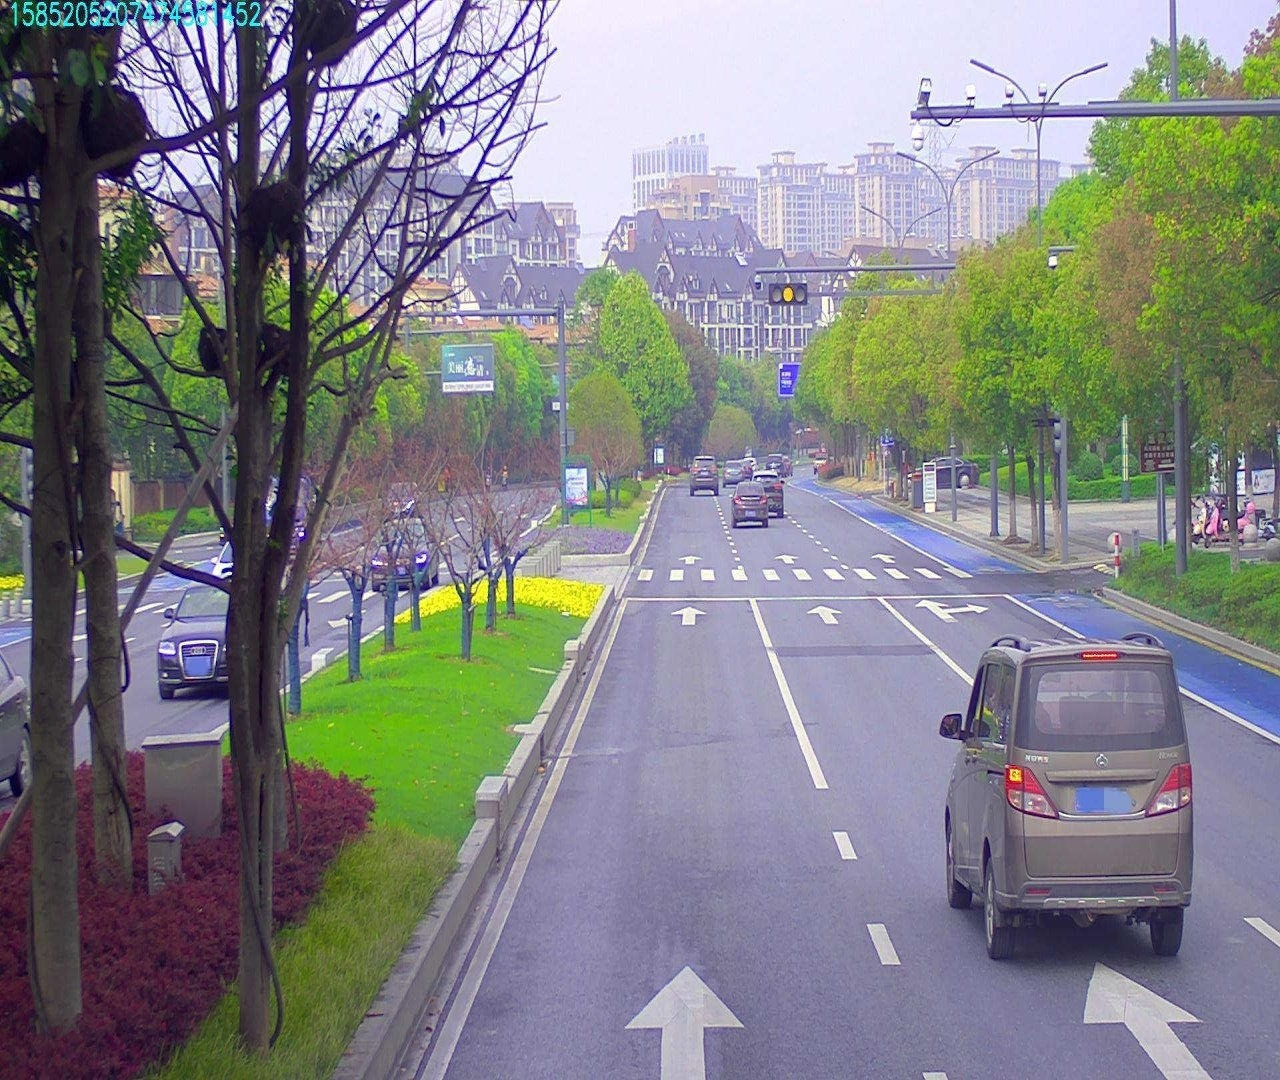yellow: (770, 283, 805, 307)
